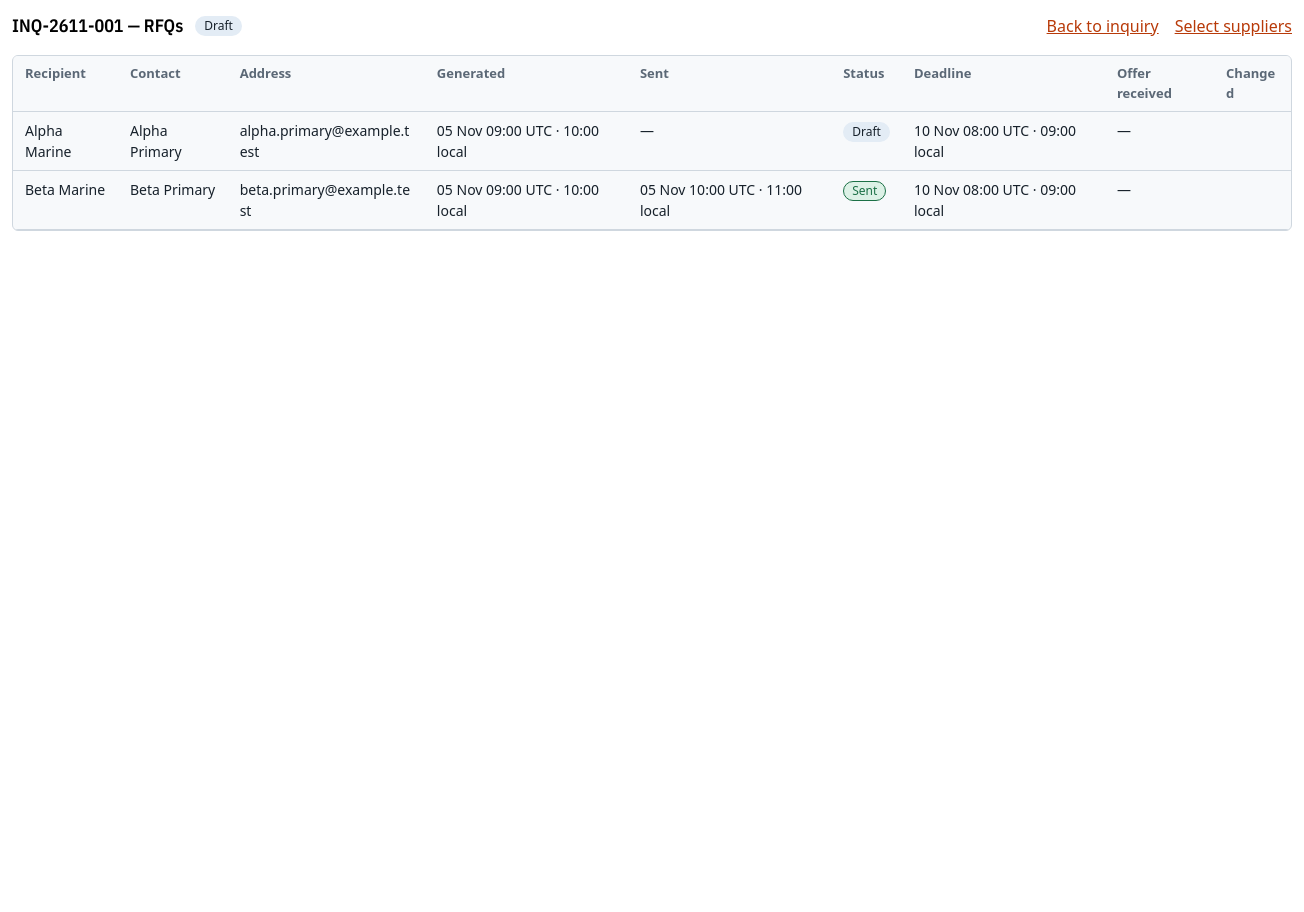
Scenario: RfqLog › [B3-R13] Mark sent needs a confirm, sends one request on a double click and updates the inquiry
Click the cell "Alpha Marine" at {"x": 65, "y": 141}, box [13, 112, 118, 170]
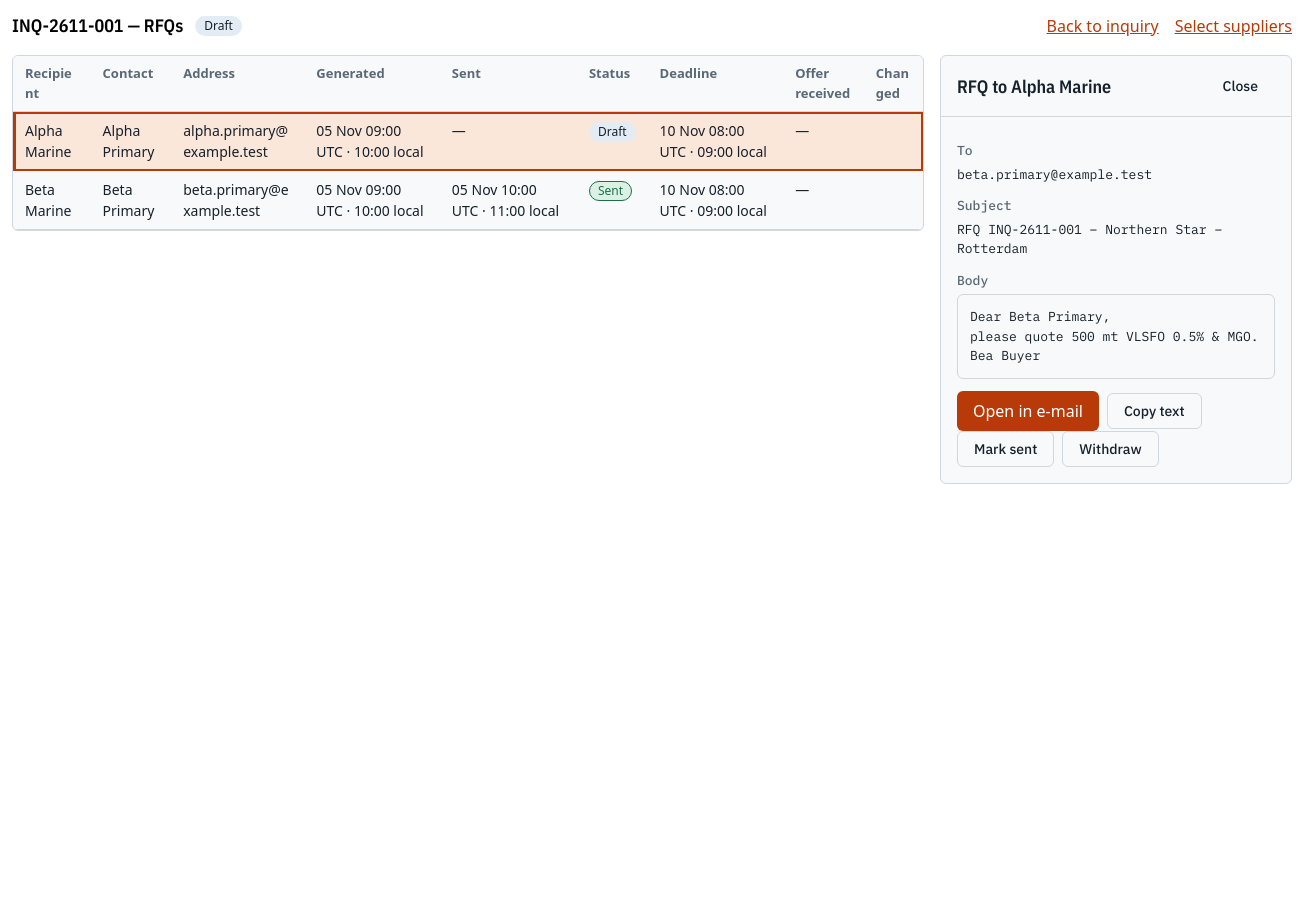
Click the button "Mark sent" at {"x": 1006, "y": 448}, box [957, 430, 1054, 466]
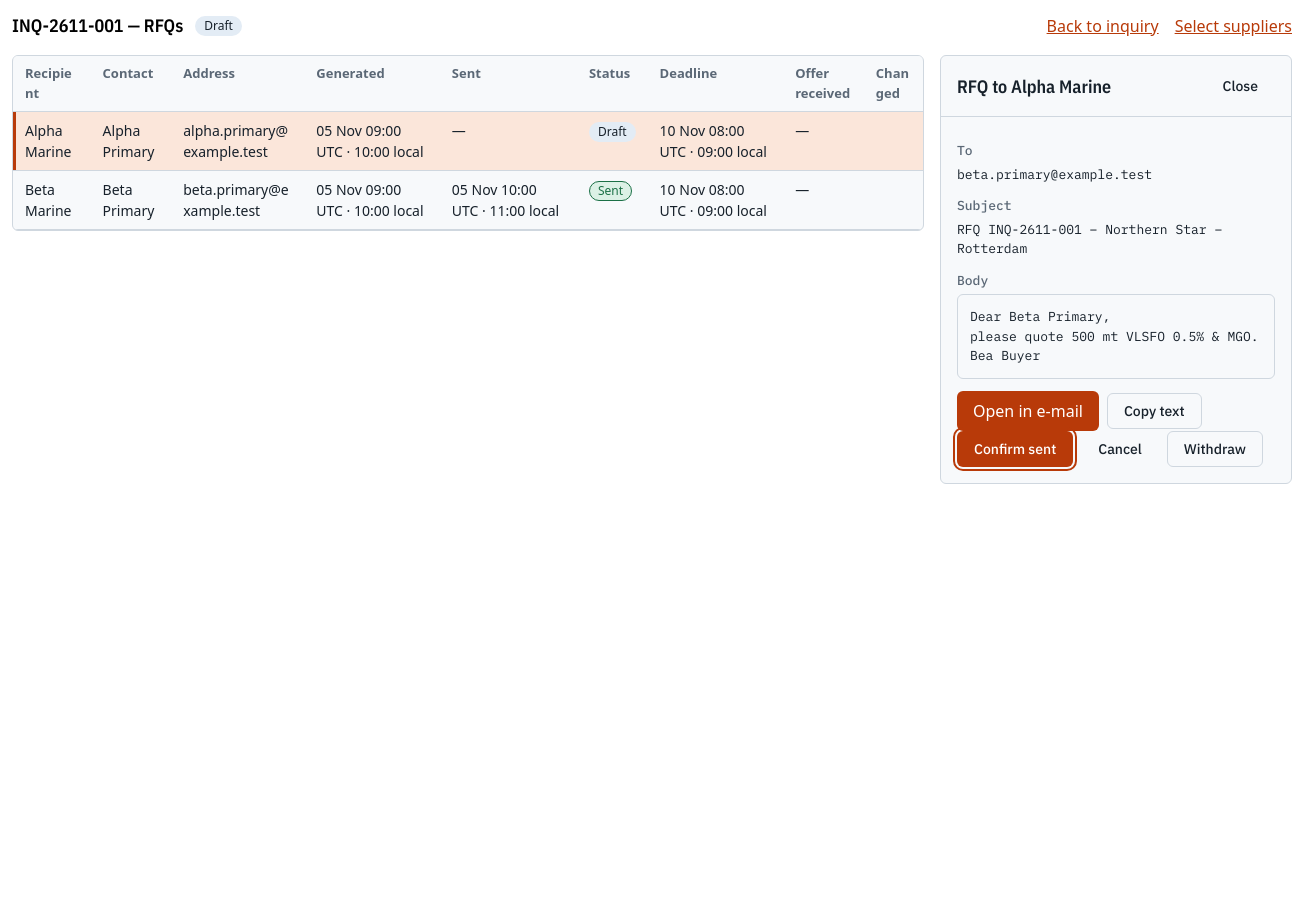
Double-click the button "Confirm sent" at {"x": 1015, "y": 448}, box [957, 430, 1073, 466]
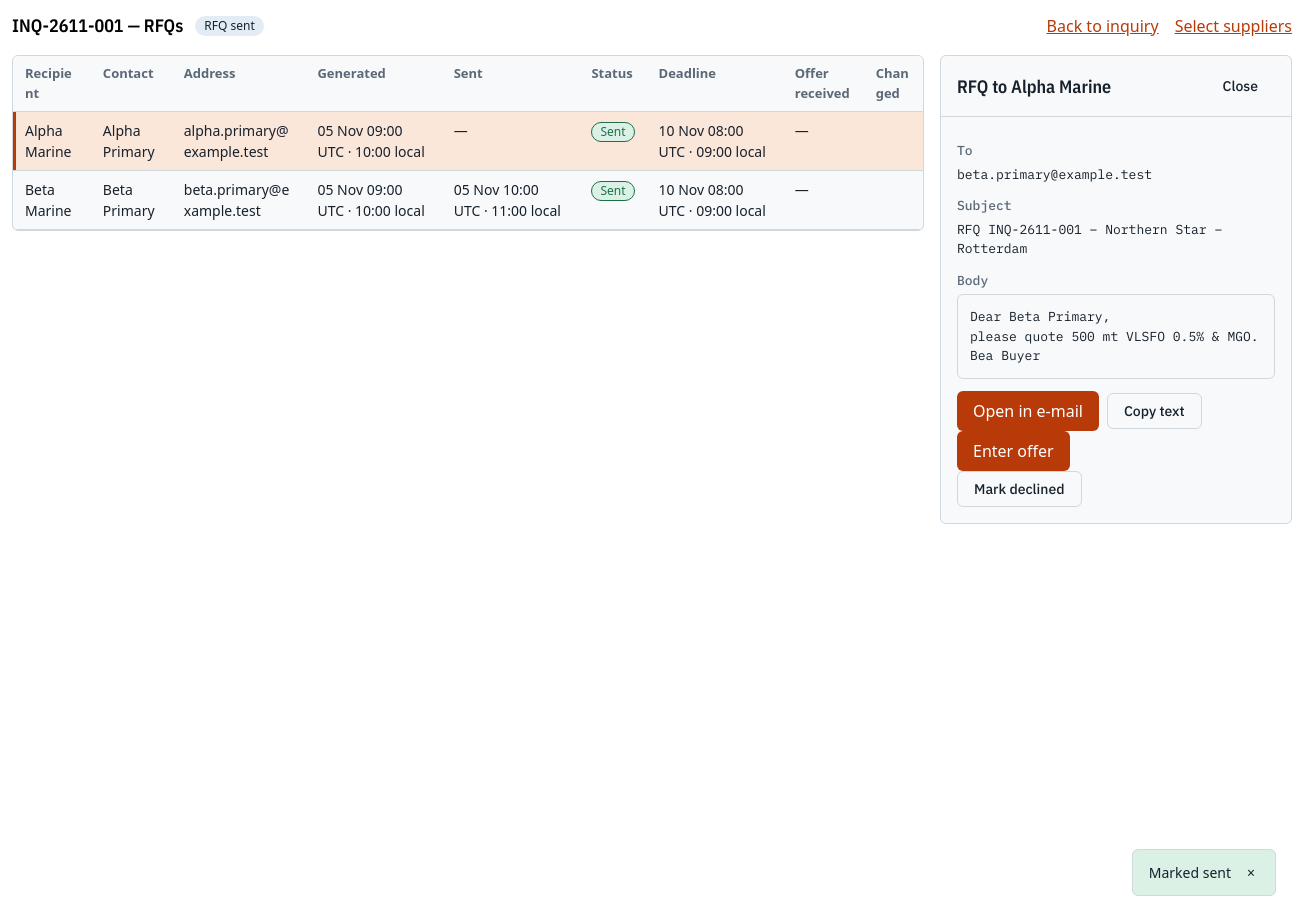
Now the text "RFQ sent" is shown, box [195, 16, 264, 36]
Now the text "Marked sent" is shown, box [1149, 862, 1231, 883]
